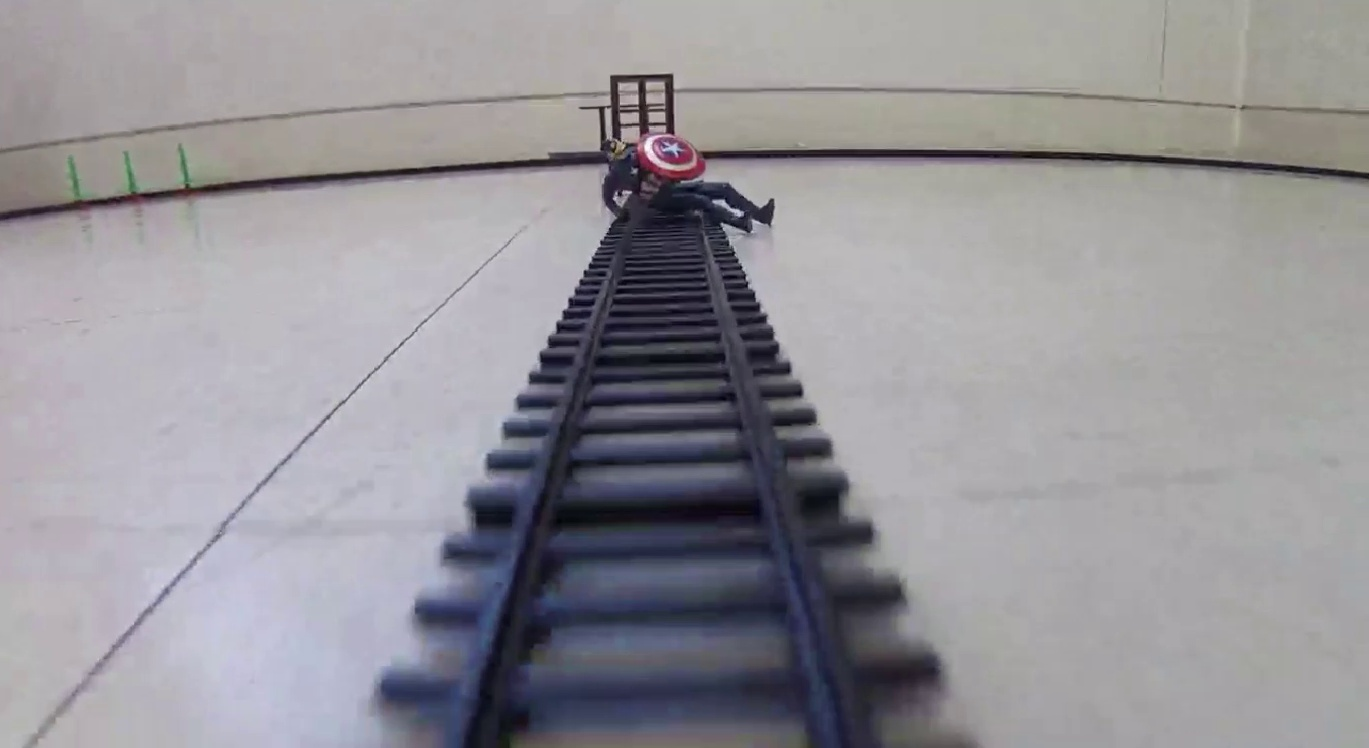people: (601, 132, 774, 234)
